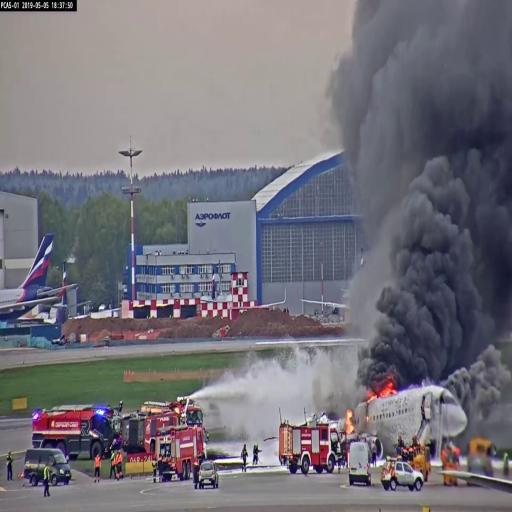smoke: (364, 155, 512, 378), (347, 6, 512, 156)
